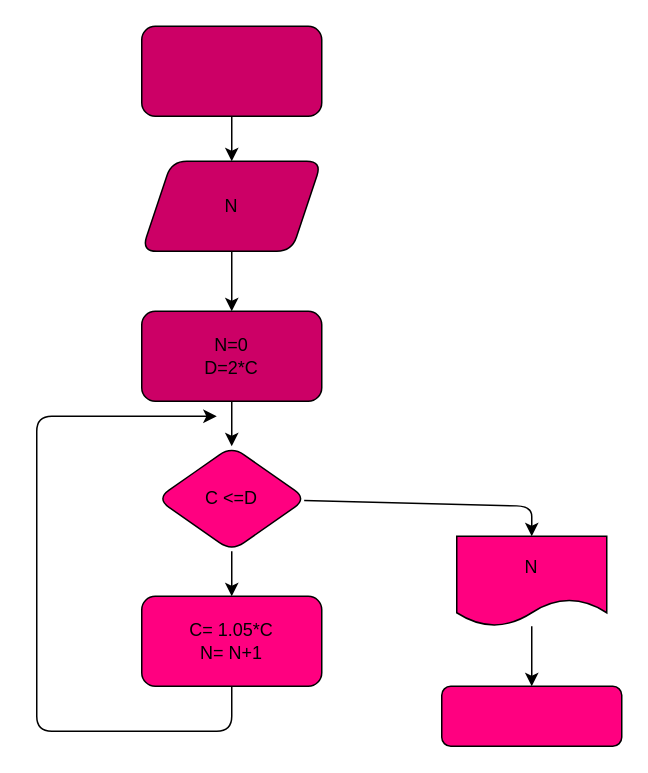
This 648x773 diagram has some shape labels left out. The shapes that lost their labels are listed below. From the top down, each one's box as (x1, y1, x2, y2) in pixels, then its label:
(140, 25, 322, 116): inicio
(440, 685, 622, 746): Fin
